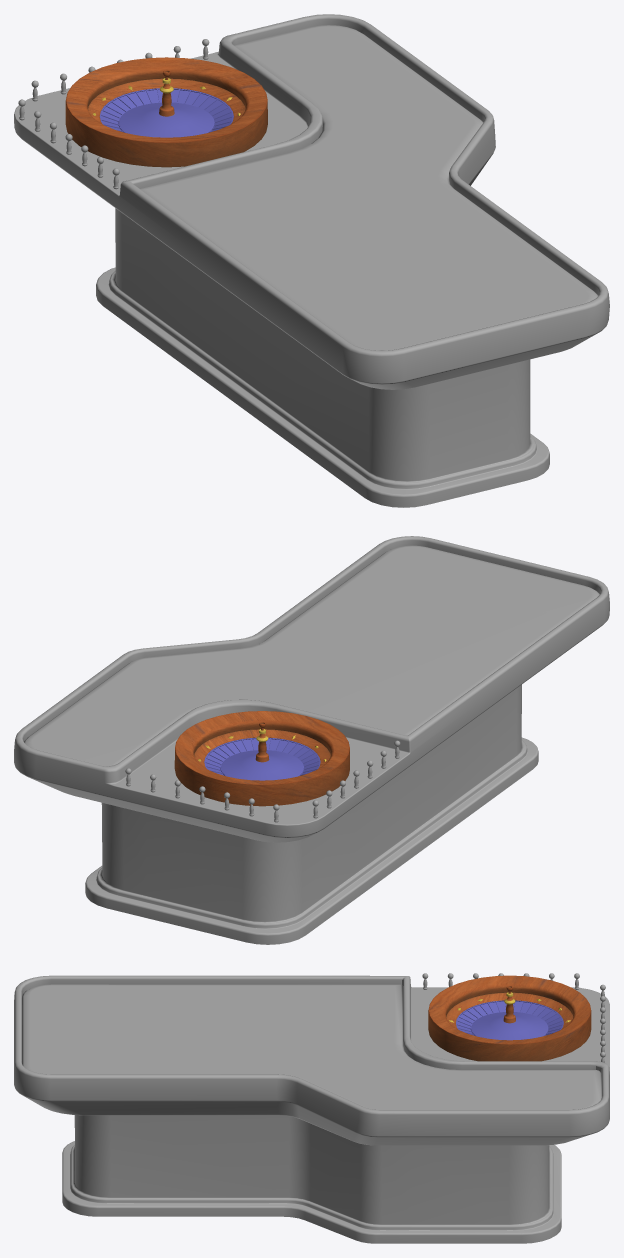
File: RouletteTable_1.fbx
3 views of the same model, one above another, from view 1: azimuth 30°, elevation 25°; view 2: azimuth 150°, elevation 25°; view 3: azimuth 270°, elevation 25° (orthographic). The views are drawn at different scales.
Visible parts, largest first — view 1: RouletteTable_1, Roulette, RouletteRotator; view 2: RouletteTable_1, Roulette, RouletteRotator; view 3: RouletteTable_1, Roulette, RouletteRotator.
Boxes of the visible parts, x1,y1,x2,y2 form: RouletteTable_1: [14, 14, 609, 507]; Roulette: [65, 57, 267, 167]; RouletteRotator: [99, 88, 233, 137]; RouletteTable_1: [14, 536, 609, 944]; Roulette: [174, 711, 349, 806]; RouletteRotator: [204, 737, 320, 780]; RouletteTable_1: [14, 973, 609, 1243]; Roulette: [428, 975, 591, 1061]; RouletteRotator: [456, 1000, 563, 1040].
Bounding box in the file's own units: 190 × 117 × 346.
Materials: 4 (1 with a texture image).
